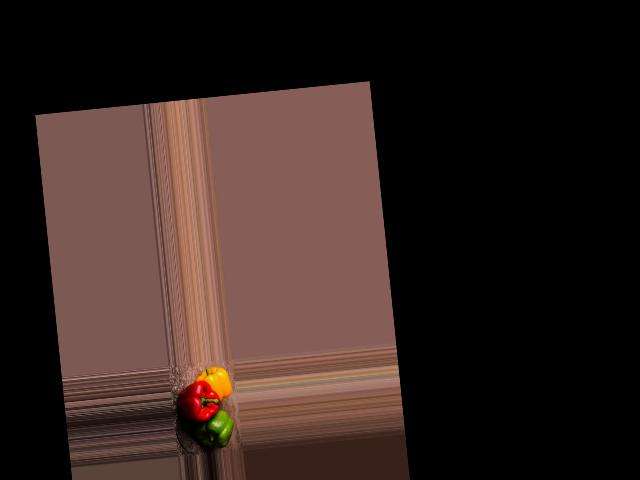bell_pepper: (194, 365, 234, 401)
